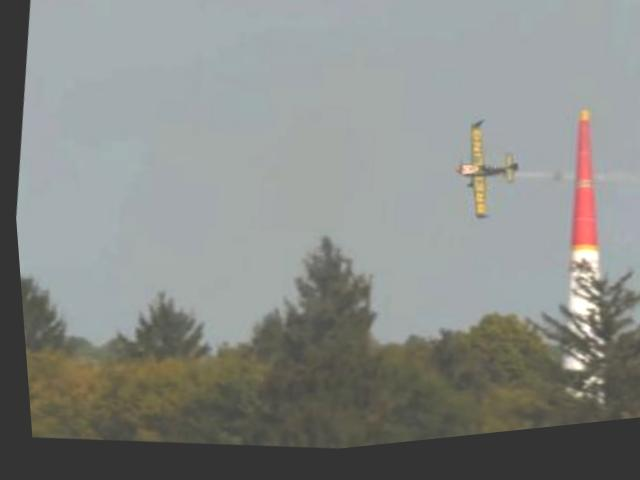uav: (437, 116, 532, 242)
